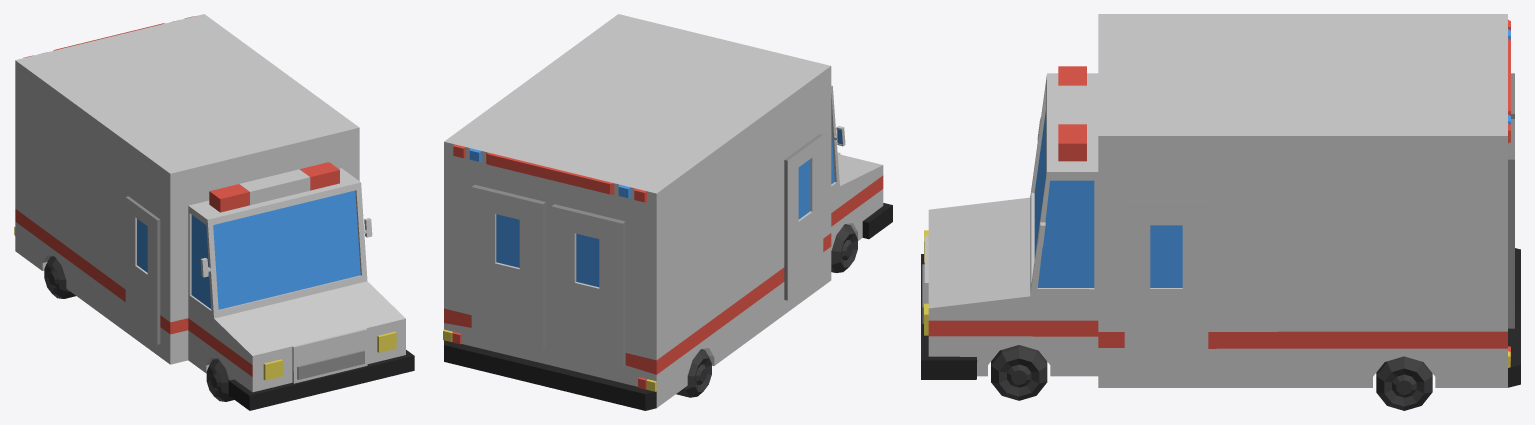
The model's file is ambulance-bad.glb.
3 views of the same model, side by side, from view 1: azimuth 30°, elevation 25°; view 2: azimuth 150°, elevation 25°; view 3: azimuth 270°, elevation 25° (orthographic). The views are drawn at different scales.
Visible parts, largest first — view 1: Ambulance2, FrontWheels, BackWheels; view 2: Ambulance2, FrontWheels, BackWheels; view 3: Ambulance2, FrontWheels, BackWheels.
Part boxes in pixels (left/top/right/bottom): Ambulance2: left=14, top=14, right=414, bottom=410; FrontWheels: left=206, top=358, right=234, bottom=401; BackWheels: left=44, top=256, right=75, bottom=298; Ambulance2: left=443, top=14, right=892, bottom=410; FrontWheels: left=831, top=224, right=857, bottom=272; BackWheels: left=676, top=349, right=711, bottom=397; Ambulance2: left=921, top=14, right=1520, bottom=387; FrontWheels: left=991, top=345, right=1047, bottom=400; BackWheels: left=1376, top=356, right=1432, bottom=410.
Size of the model in its own units: 2.84 by 2.91 by 5.72.
